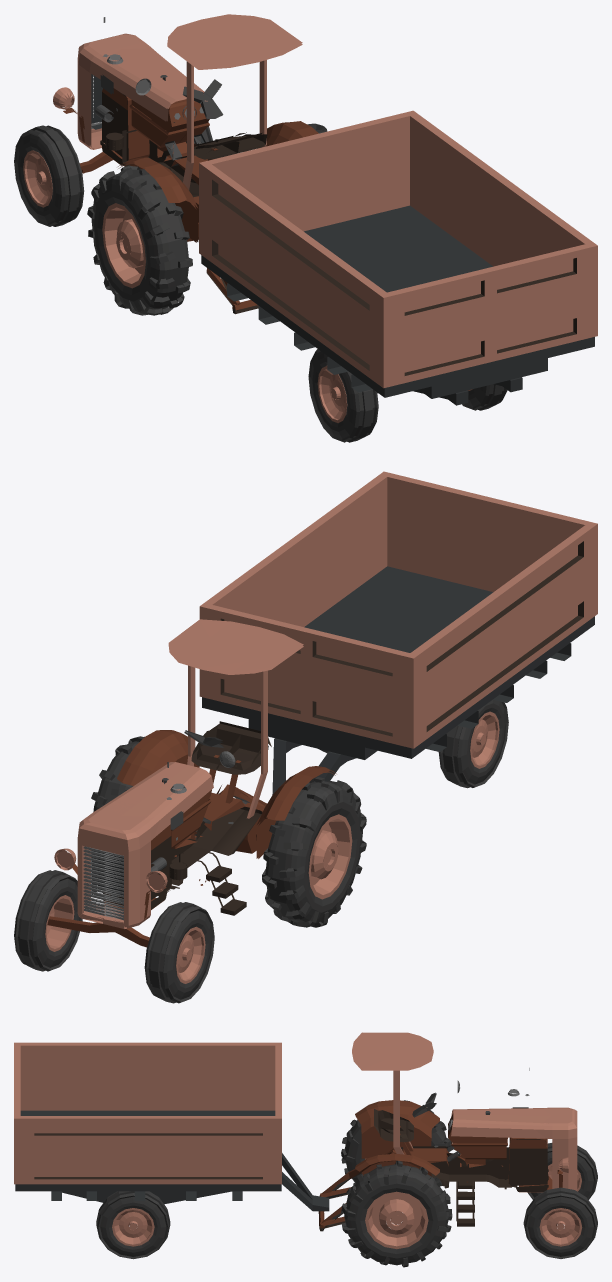
The model's file is lourd_tracteur.glb.
3 views of the same model, one above another, from view 1: azimuth 30°, elevation 25°; view 2: azimuth 150°, elevation 25°; view 3: azimuth 270°, elevation 25° (orthographic). The views are drawn at different scales.
Parts seen in each view (by area): view 1: lourd_tracteur; view 2: lourd_tracteur; view 3: lourd_tracteur.
Boxes of the visible parts, left/top/right/bottom form: lourd_tracteur: left=14, top=14, right=597, bottom=442; lourd_tracteur: left=14, top=471, right=597, bottom=1003; lourd_tracteur: left=14, top=1032, right=597, bottom=1267.
Size of the model in its own units: 2.28 by 2.55 by 7.4.
